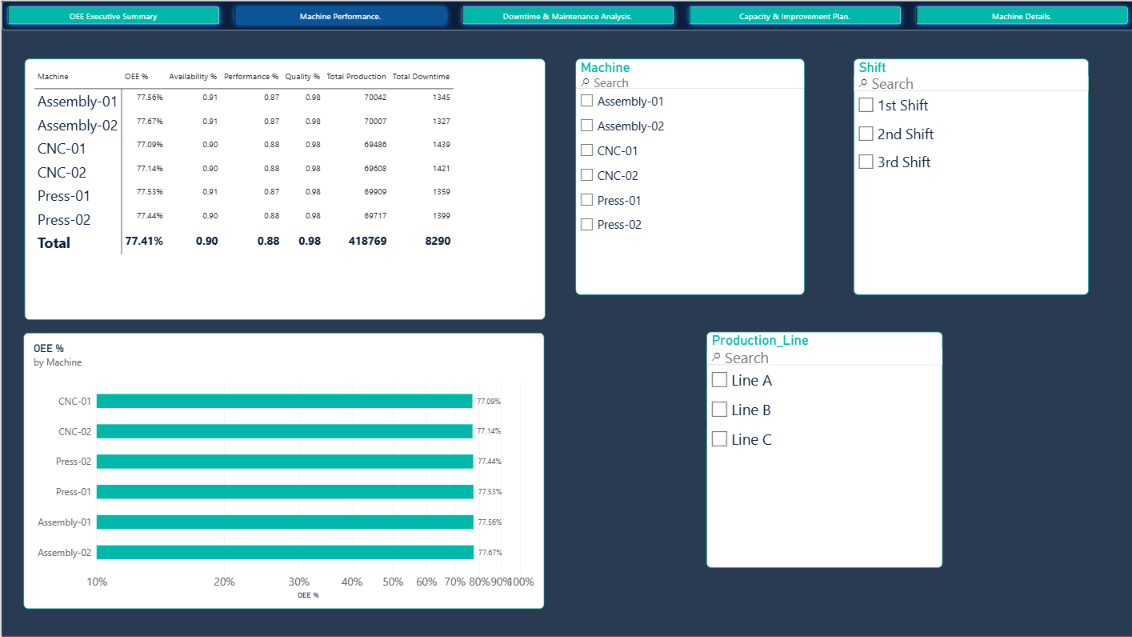

The page's visual inventory and layout, read from the dashboard file:
{"tool":"powerbi","page":{"name":"Machine Performance.","canvas":[1920,1080],"ordinal":1},"visuals":[{"type":"pivotTable","fields":{"Rows":["OEE_data.Machine"],"Values":["OEE_data.OEE %","OEE_data.Availability %","OEE_data.Performance %","OEE_data.Quality %","OEE_data.Total Production","OEE_data.Total Downtime"]},"box":[38.6,98.3,882,442],"z":0},{"type":"clusteredBarChart","fields":{"Category":["OEE_data.Machine"],"Y":["OEE_data.OEE %"]},"box":[38,562,882,468],"z":1000},{"type":"slicer","fields":{"Values":["OEE_data.Shift"]},"box":[1444.1,98.3,398,400],"z":2000},{"type":"slicer","fields":{"Values":["OEE_data.Production_Line"]},"box":[1195.4,561.1,400,400],"z":3000},{"type":"slicer","fields":{"Values":["OEE_data.Machine"]},"box":[973.7,98.3,388,400],"z":4000},{"type":"pageNavigator","box":[0,0,1920.4,50.1],"z":5000}]}

Visuals, with their boxes in screenshot pixels (x1, y1, x2, y2), scaled from the page's 1920x1080 canvas onto the 1132x637 screenshot:
pivotTable - OEE_data.Machine x OEE_data.OEE %: Rect(23, 58, 543, 319)
clusteredBarChart - OEE_data.Machine x OEE_data.OEE %: Rect(22, 331, 542, 608)
slicer - OEE_data.Shift: Rect(851, 58, 1086, 294)
slicer - OEE_data.Production_Line: Rect(705, 331, 941, 567)
slicer - OEE_data.Machine: Rect(574, 58, 803, 294)
pageNavigator: Rect(0, 0, 1131, 30)
